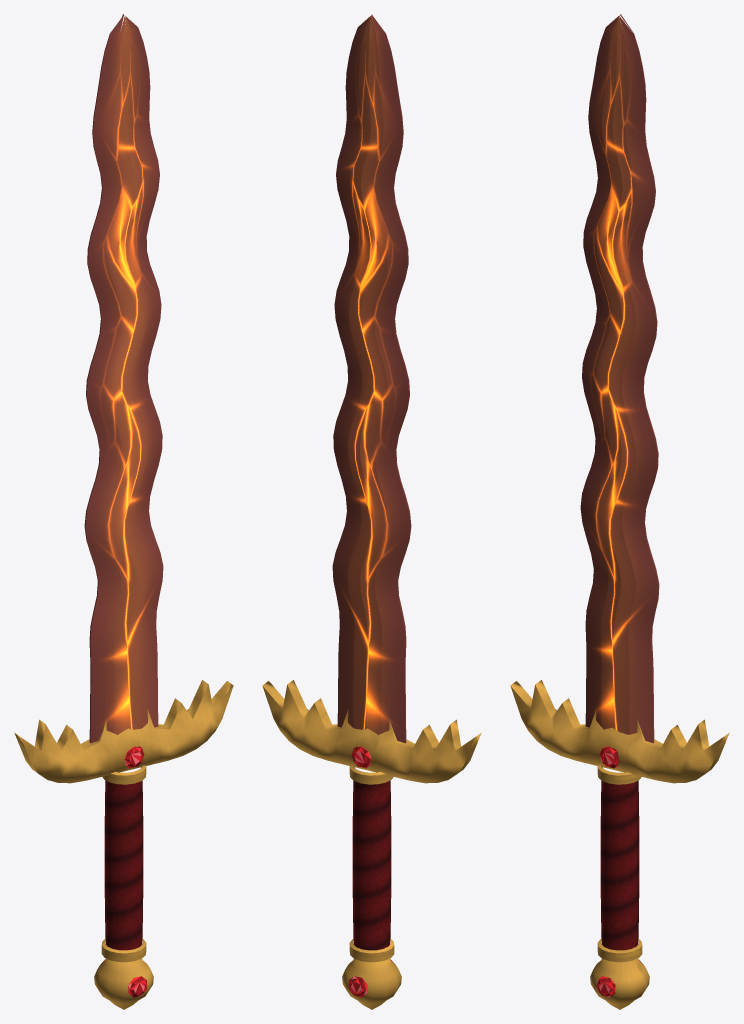
File: Emberfang.glb
3 views of the same model, side by side, from view 1: azimuth 30°, elevation 25°; view 2: azimuth 150°, elevation 25°; view 3: azimuth 330°, elevation 25° (orthographic).
Parts seen in each view (by area): view 1: Emberfang; view 2: Emberfang; view 3: Emberfang.
Part boxes in pixels (bbox=[...]): Emberfang: bbox=[14, 14, 233, 1009]; Emberfang: bbox=[262, 14, 481, 1009]; Emberfang: bbox=[510, 14, 729, 1009].
Size of the model in its own units: 0.94 by 4.2 by 0.237.
1 material, 1 textured.
